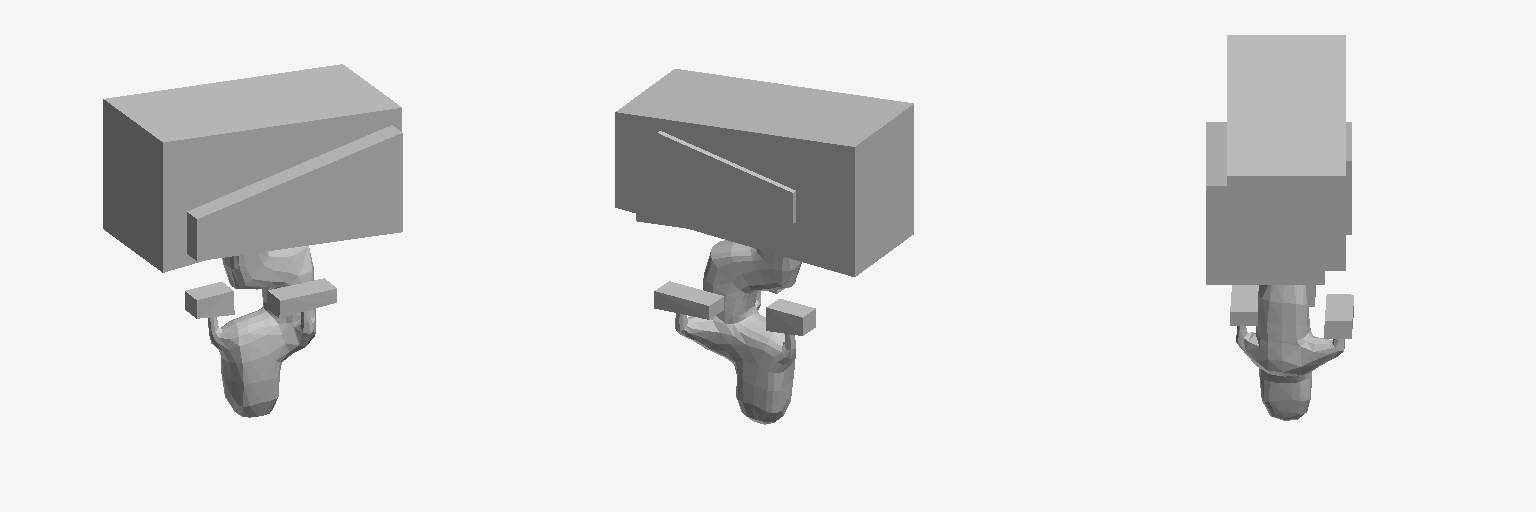
File: tree1.obj
The picture shows the model from 3 angles: view 1: azimuth 30°, elevation 25°; view 2: azimuth 150°, elevation 25°; view 3: azimuth 270°, elevation 25°; orthographic projection.
Visible parts, largest first — view 1: tree1_Group1.000; view 2: tree1_Group1.000; view 3: tree1_Group1.000.
Part boxes in pixels (left/top/right/bottom): tree1_Group1.000: left=103, top=64, right=402, bottom=417; tree1_Group1.000: left=615, top=69, right=913, bottom=424; tree1_Group1.000: left=1206, top=35, right=1353, bottom=420.
Size of the model in its own units: 11.04 by 14.29 by 5.93.